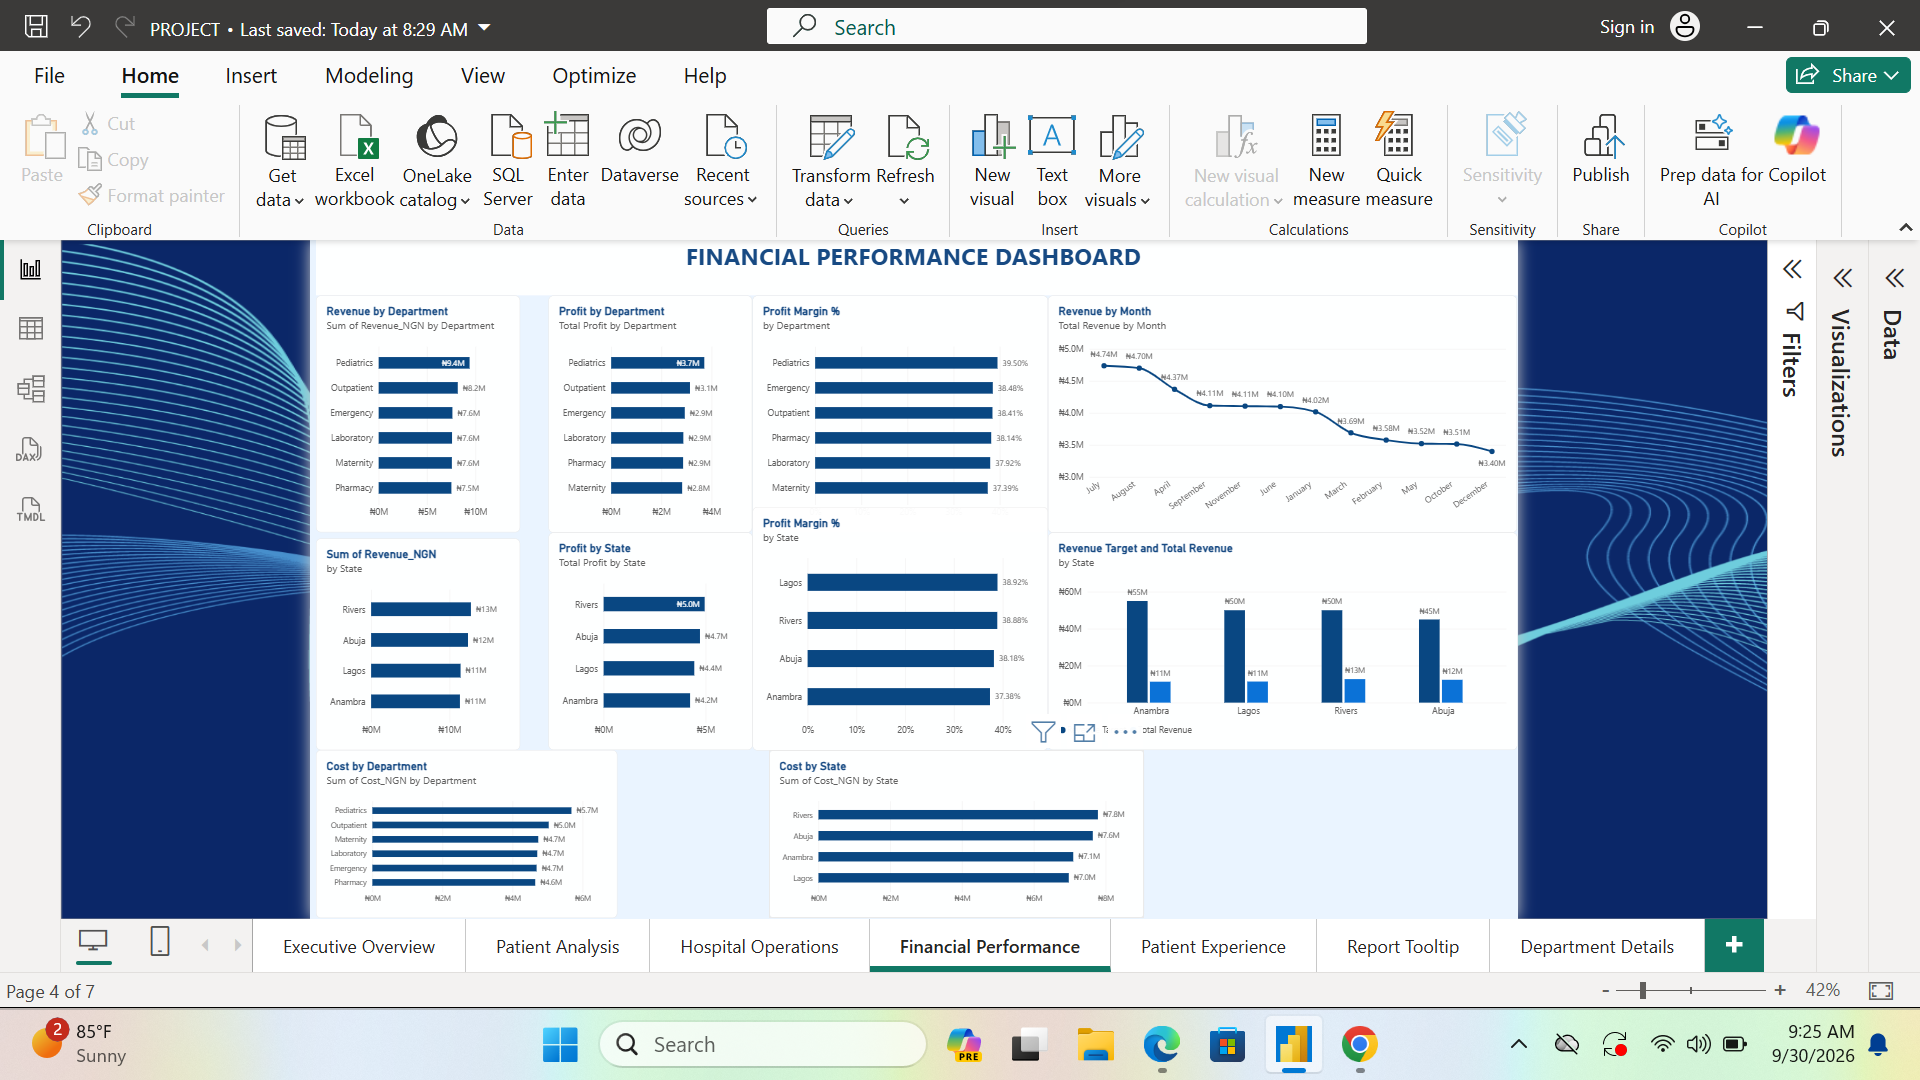

What the dashboard file says about the page in this screenshot:
{"tool":"powerbi","page":{"name":"Financial Performance","canvas":[1920,1080],"ordinal":3},"visuals":[{"type":"textbox","box":[9.5,0,1911.1,88.3],"z":0},{"type":"clusteredBarChart","title":"Revenue by Department","fields":{"Category":["Patient_Visits.Department"],"Y":["Sum(Patient_Visits.Revenue_NGN)"]},"box":[9.5,88.3,324.5,377],"z":1000},{"type":"clusteredBarChart","title":"Profit by Department","fields":{"Category":["Patient_Visits.Department"],"Y":["Patient_Visits.Total Profit"]},"box":[379.4,88.3,324,377],"z":2000},{"type":"clusteredBarChart","fields":{"Category":["Patient_Visits.State"],"Y":["Sum(Patient_Visits.Revenue_NGN)"]},"box":[9.5,474.8,324.5,336.4],"z":3000},{"type":"clusteredBarChart","title":"Profit by State","fields":{"Category":["Patient_Visits.State"],"Y":["Patient_Visits.Total Profit"]},"box":[379.4,465.3,324.5,346],"z":4000},{"type":"clusteredBarChart","fields":{"Category":["Patient_Visits.Department"],"Y":["Patient_Visits.Profit Margin %"]},"box":[703.8,88.3,470,377],"z":5000},{"type":"clusteredBarChart","fields":{"Category":["Patient_Visits.State"],"Y":["Patient_Visits.Profit Margin %"]},"box":[703.8,424.7,470,387],"z":6000},{"type":"lineChart","title":"Revenue by Month","fields":{"Category":["Date_Table.Month"],"Y":["Patient_Visits.Total Revenue"]},"box":[1173.9,88.3,746,377],"z":7000},{"type":"clusteredColumnChart","fields":{"Category":["State_Targets.State"],"Y":["Patient_Visits.Revenue Target","Patient_Visits.Total Revenue"]},"box":[1173.9,465.3,746.8,346],"z":8000},{"type":"clusteredBarChart","title":"Cost by Department","fields":{"Category":["Patient_Visits.Department"],"Y":["Sum(Patient_Visits.Cost_NGN)"]},"box":[9.5,811.2,479.6,267.2],"z":9000},{"type":"clusteredBarChart","title":"Cost by State","fields":{"Category":["Patient_Visits.State"],"Y":["Sum(Patient_Visits.Cost_NGN)"]},"box":[730.1,811.2,596.5,267.2],"z":10000}]}

Visuals, with their boxes on the page's 1920x1080 design canvas (x1, y1, x2, y2). These are canvas units, not pixel positions in the 1920x1080 screenshot, which may show the page scaled, cropped or inside an application window:
textbox: bbox=(10, 0, 1921, 88)
"Revenue by Department" clusteredBarChart: bbox=(10, 88, 334, 465)
"Profit by Department" clusteredBarChart: bbox=(379, 88, 703, 465)
clusteredBarChart - Patient_Visits.State x Sum(Patient_Visits.Revenue_NGN): bbox=(10, 475, 334, 811)
"Profit by State" clusteredBarChart: bbox=(379, 465, 704, 811)
clusteredBarChart - Patient_Visits.Department x Patient_Visits.Profit Margin %: bbox=(704, 88, 1174, 465)
clusteredBarChart - Patient_Visits.State x Patient_Visits.Profit Margin %: bbox=(704, 425, 1174, 812)
"Revenue by Month" lineChart: bbox=(1174, 88, 1920, 465)
clusteredColumnChart - State_Targets.State x Patient_Visits.Revenue Target: bbox=(1174, 465, 1921, 811)
"Cost by Department" clusteredBarChart: bbox=(10, 811, 489, 1078)
"Cost by State" clusteredBarChart: bbox=(730, 811, 1327, 1078)
